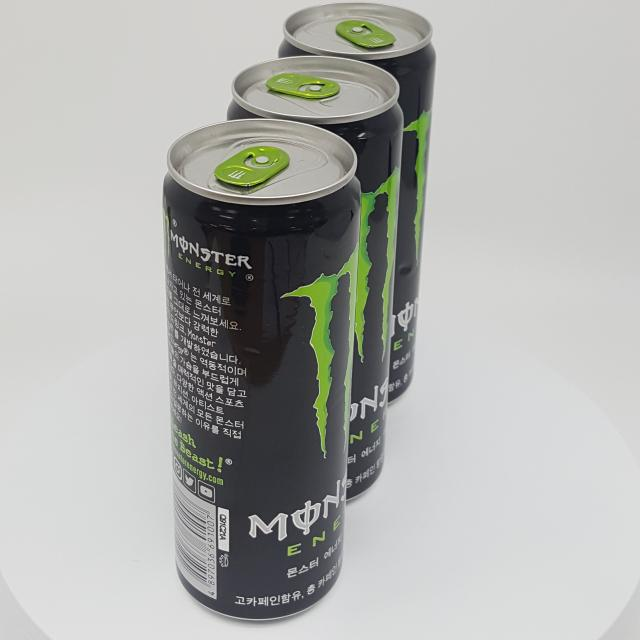--------355ML: (162, 119, 361, 620)
